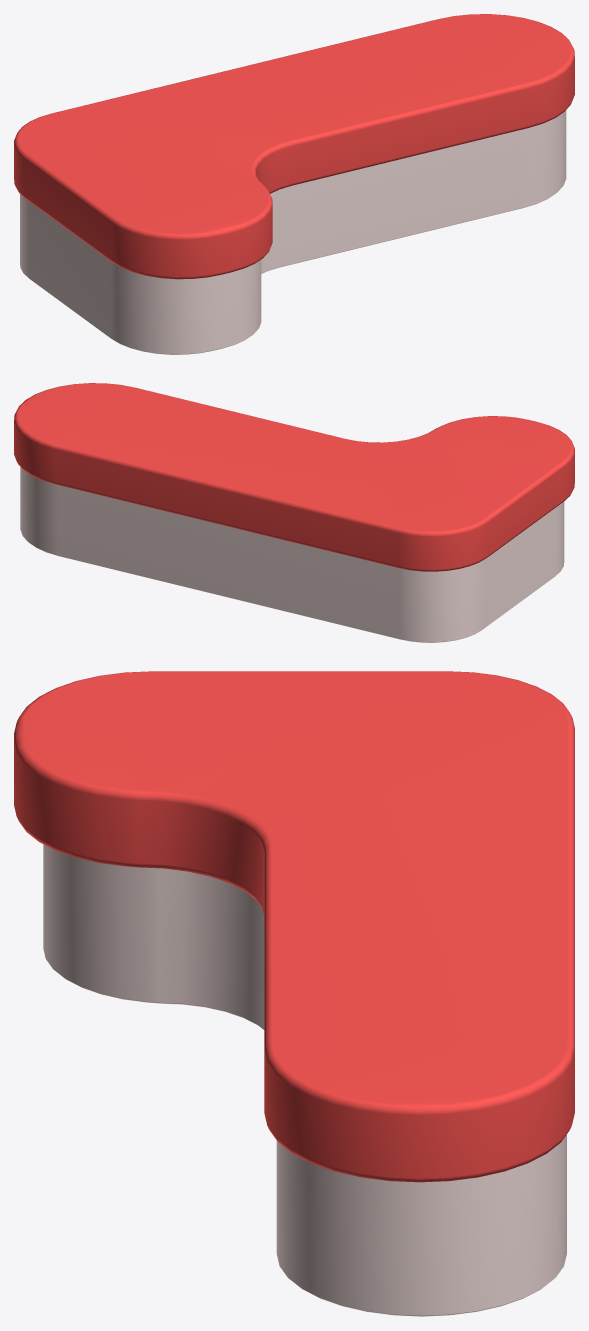
The model's file is City_15_Bench_1.glb.
3 views of the same model, one above another, from view 1: azimuth 30°, elevation 25°; view 2: azimuth 150°, elevation 25°; view 3: azimuth 270°, elevation 25° (orthographic). The views are drawn at different scales.
Visible parts, largest first — view 1: City_15_Bench_1; view 2: City_15_Bench_1; view 3: City_15_Bench_1.
Part boxes in pixels (x1,y1,x2,y2): City_15_Bench_1: (14, 14, 574, 354); City_15_Bench_1: (14, 383, 574, 642); City_15_Bench_1: (14, 671, 574, 1316).
Size of the model in its own units: 1.97 by 0.449 by 1.06.
Materials: 1 (1 with a texture image).
